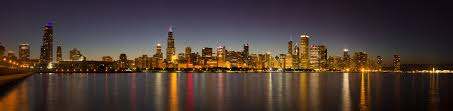willis: (165, 19, 176, 63)
